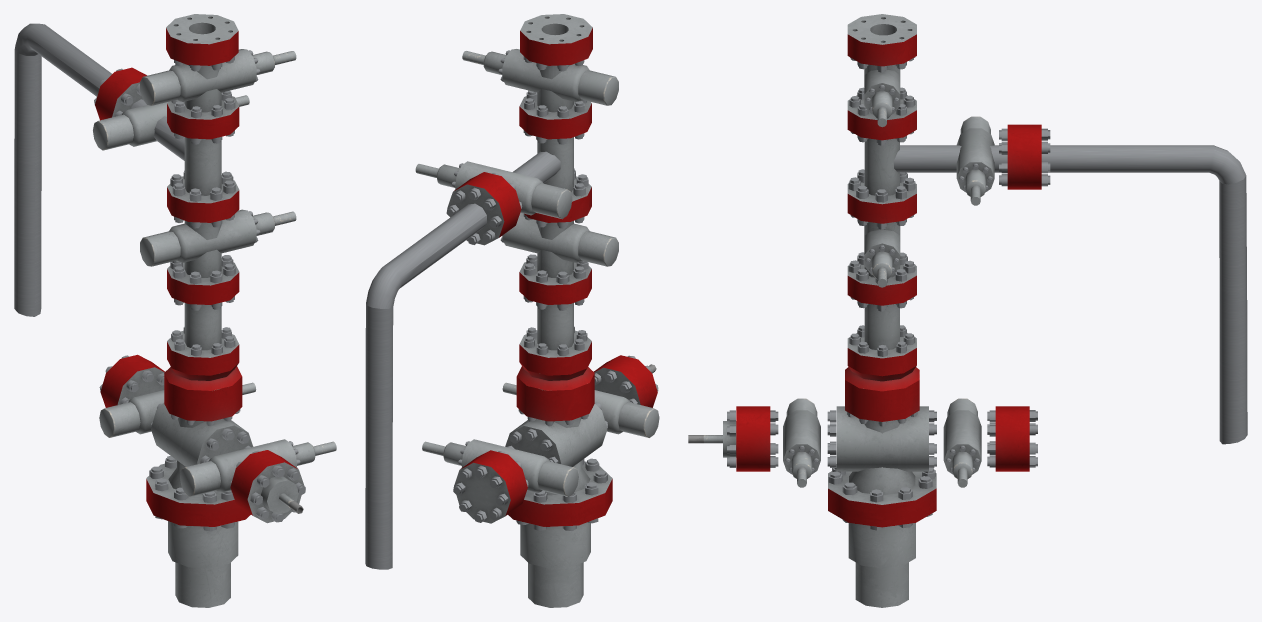
The model's file is Skvajina.FBX.
The picture shows the model from 3 angles, left to right: view 1: azimuth 30°, elevation 25°; view 2: azimuth 150°, elevation 25°; view 3: azimuth 270°, elevation 25°; orthographic projection.
Parts seen in each view (by area): view 1: Skvajina; view 2: Skvajina; view 3: Skvajina.
Part boxes in pixels (x1,y1,x2,y2): Skvajina: (14, 14, 336, 607); Skvajina: (365, 14, 659, 607); Skvajina: (688, 14, 1247, 607).
Size of the model in its own units: 33.31 by 123 by 110.
1 material, 1 textured.
